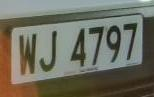4: (67, 23, 90, 70)
7: (87, 22, 105, 70), (122, 19, 140, 62)
9: (104, 21, 122, 64)
J: (37, 27, 62, 76)
W: (16, 28, 39, 82)
